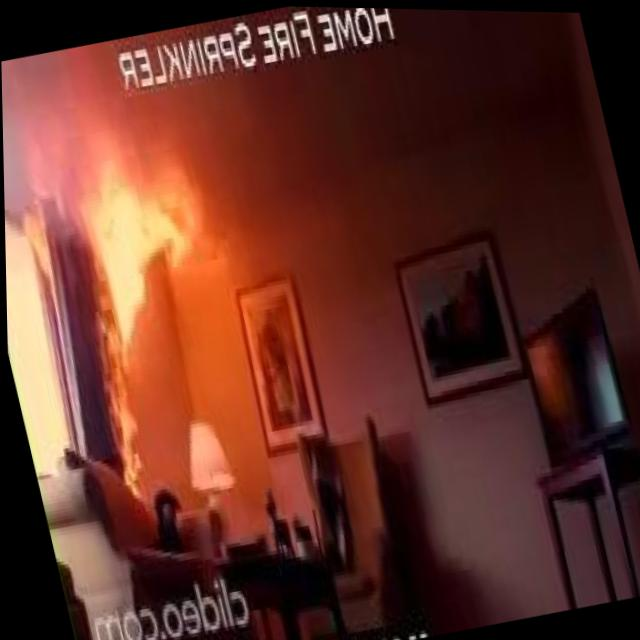fire: (64, 134, 235, 351), (81, 294, 166, 496), (6, 167, 56, 283)
